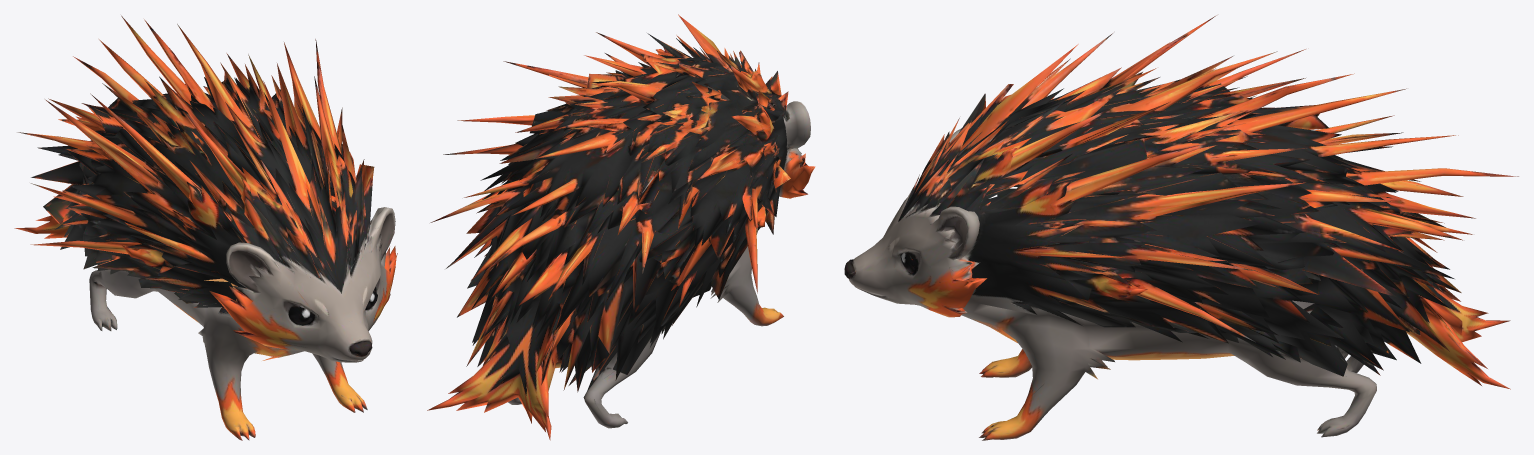
3 views of the same model, side by side, from view 1: azimuth 30°, elevation 25°; view 2: azimuth 150°, elevation 25°; view 3: azimuth 270°, elevation 25° (orthographic). The views are drawn at different scales.
Bounding box in the file's own units: 0.5884 × 0.5654 × 0.9517.
Materials: 1 (1 with a texture image).
